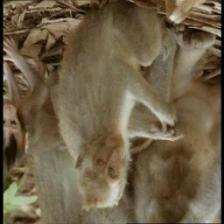monkey: (74, 121, 133, 214), (0, 92, 33, 175), (157, 142, 196, 184)
